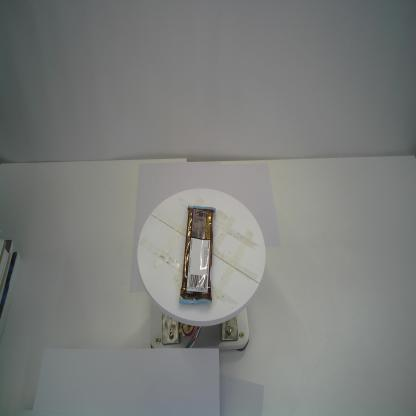Chocolate: (178, 205, 217, 305)
